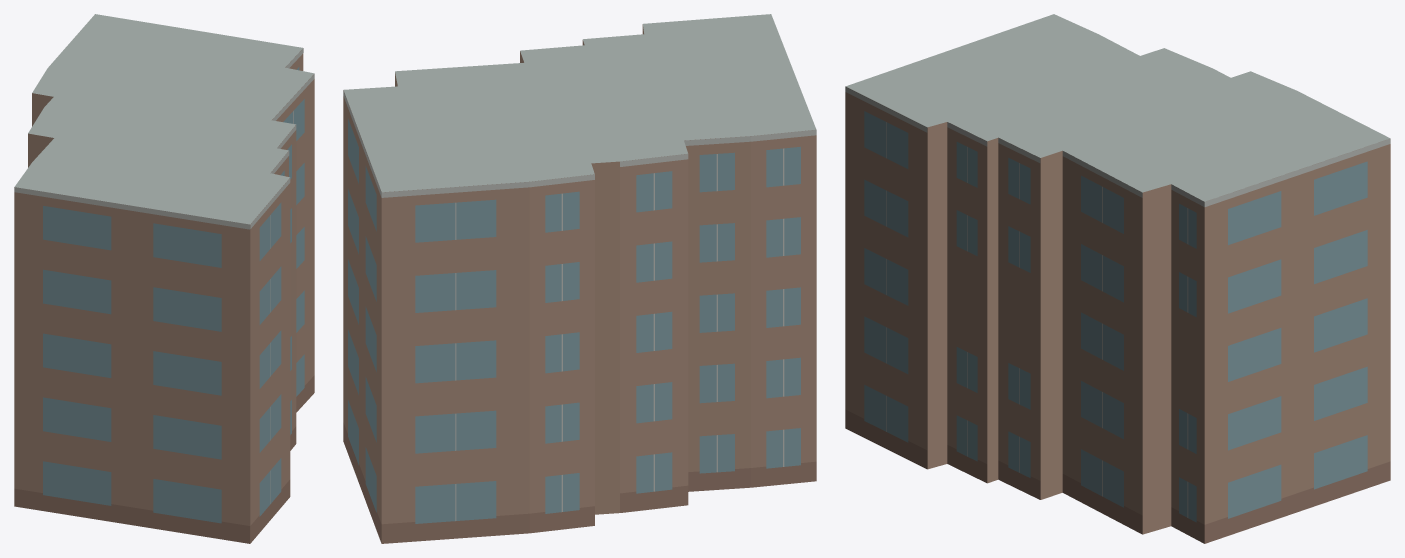
The model's file is survey-upis-33044238.glb.
3 renders of one model, left to right at view 1: azimuth 30°, elevation 25°; view 2: azimuth 150°, elevation 25°; view 3: azimuth 270°, elevation 25°, orthographic. The views are drawn at different scales.
Visible parts, largest first — view 1: survey-upis-33044238.tmp; view 2: survey-upis-33044238.tmp; view 3: survey-upis-33044238.tmp.
Part boxes in pixels (x1,y1,x2,y2): survey-upis-33044238.tmp: [14, 14, 314, 543]; survey-upis-33044238.tmp: [343, 14, 816, 543]; survey-upis-33044238.tmp: [845, 14, 1390, 543].
Size of the model in its own units: 17.97 by 15.25 by 22.03.
